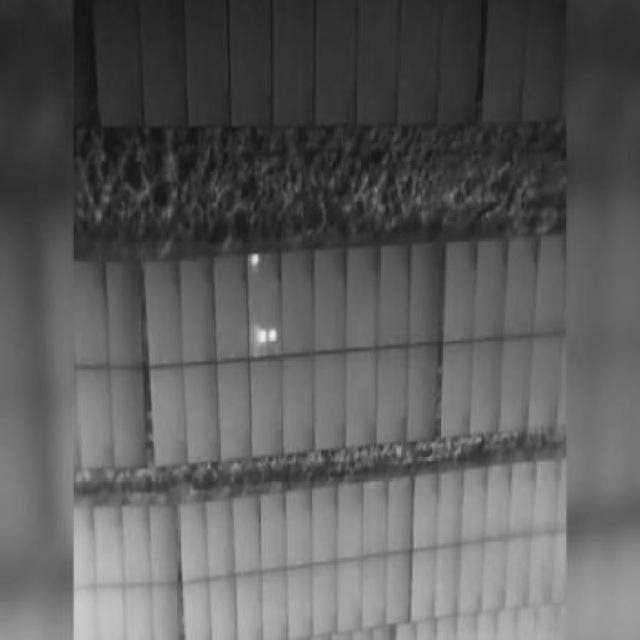hotspot: (257, 326, 268, 345), (268, 327, 280, 342)
